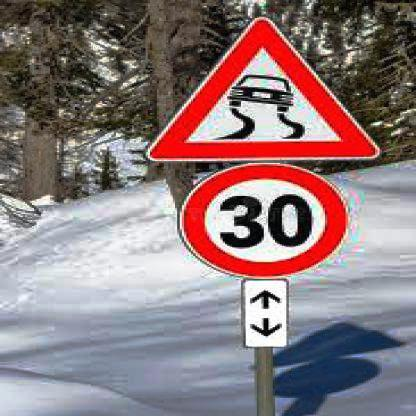Speed Limit -30-: (180, 162, 354, 282)
